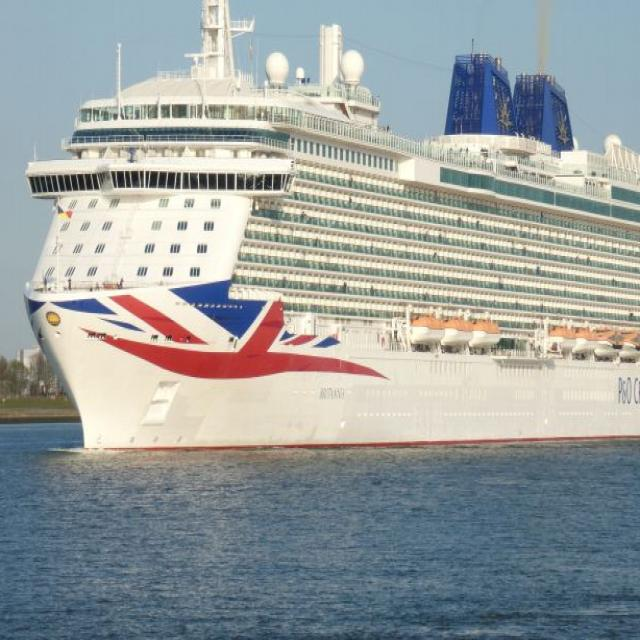cruises: (20, 1, 640, 460)
